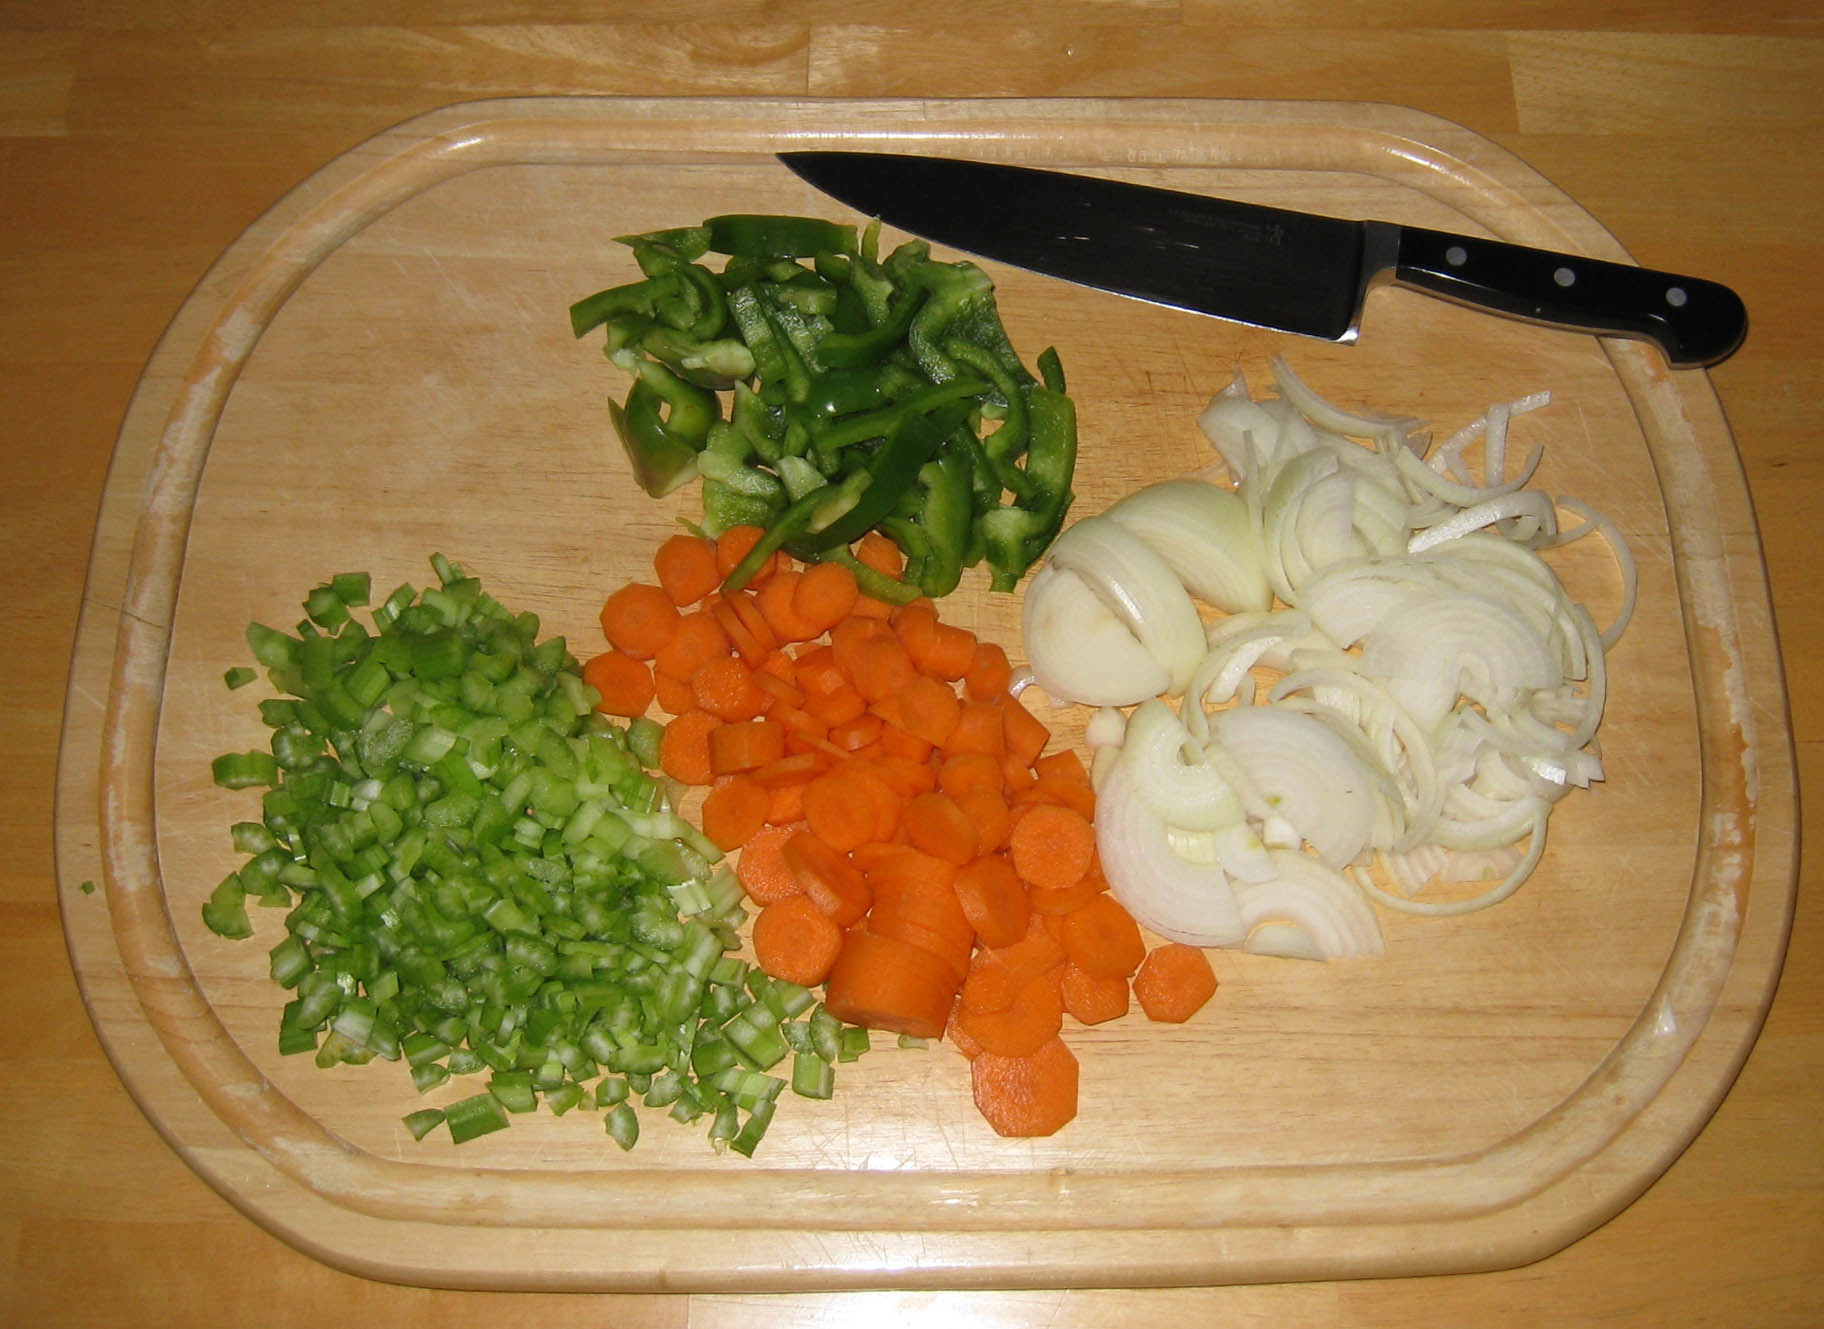knife: (712, 122, 1782, 405)
